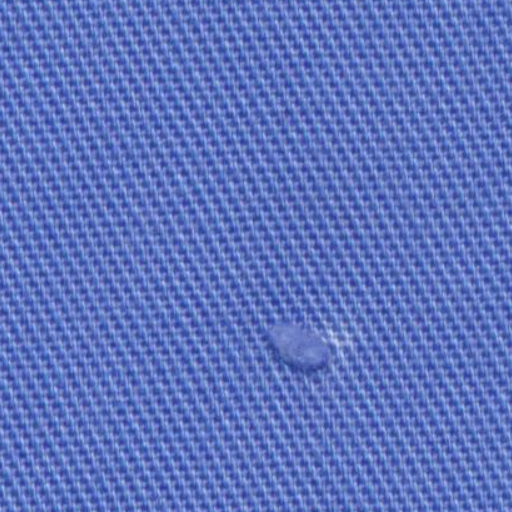MianQiu: (252, 295, 349, 395)
